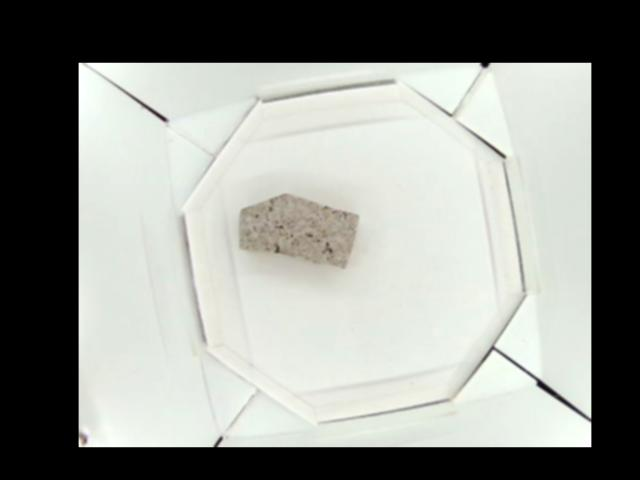China: (242, 192, 361, 270)
